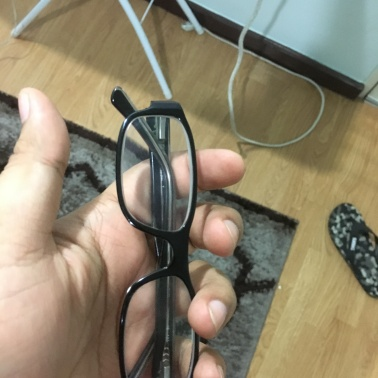glasses: (93, 100, 212, 378)
